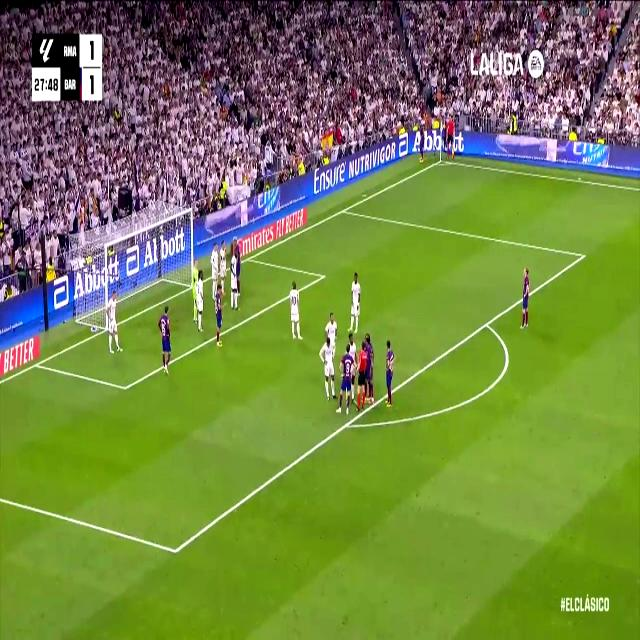bigarea_bottom_inner: (169, 534, 182, 566)
bigarea_top_inner: (578, 245, 588, 266)
bigarea_top_outter: (339, 202, 349, 218)
bottom_arc_area_intersection: (342, 415, 352, 434)
corner: (435, 155, 445, 167)
smallarea_bottom_inner: (120, 376, 130, 398)
smallarea_bottom_outter: (33, 357, 41, 372)
smallarea_top_inner: (318, 266, 328, 285)
smallarea_top_outter: (246, 253, 252, 265)
top_arc_area_intersection: (482, 313, 492, 333)
